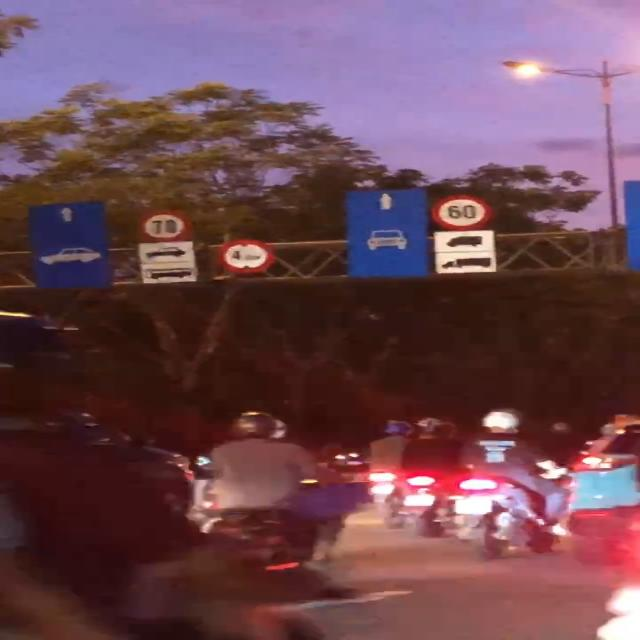Bien bao toc do toi da cho phep: (428, 194, 497, 229), (131, 209, 199, 244)
